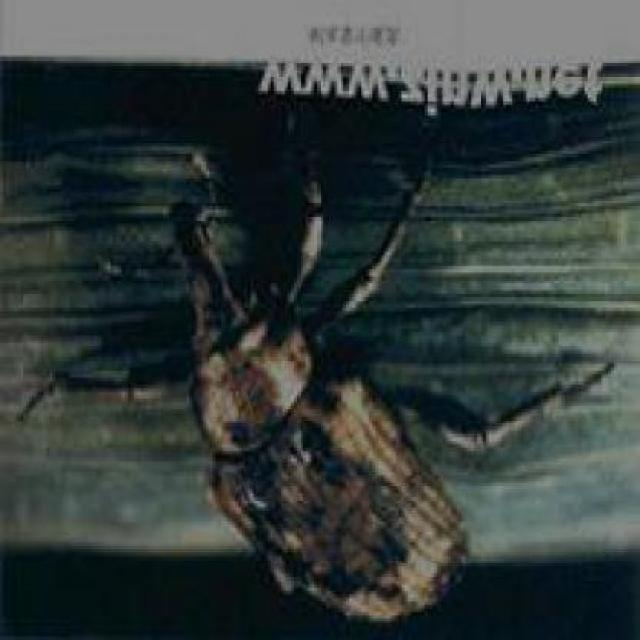rice-bug: (144, 171, 484, 626)
